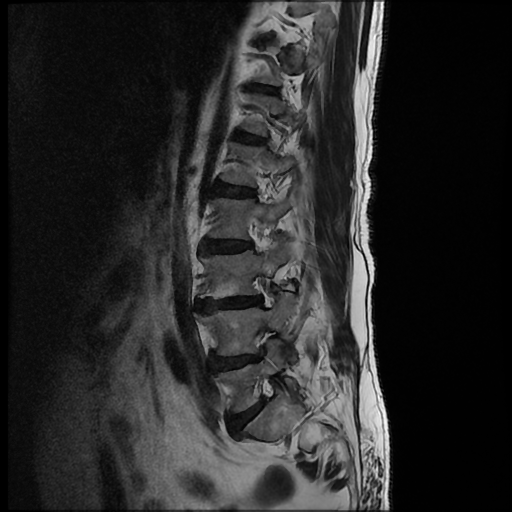RFS0: (241, 266, 289, 315)
